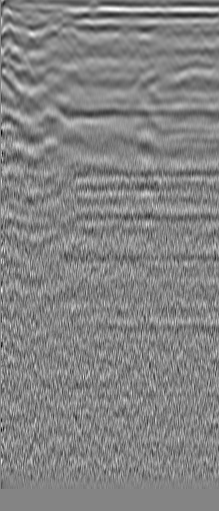오수: (22, 29, 42, 49)
우수: (185, 22, 205, 42)
